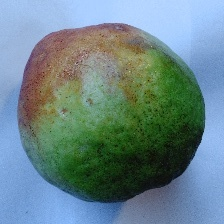guava: (53, 47, 197, 194)
